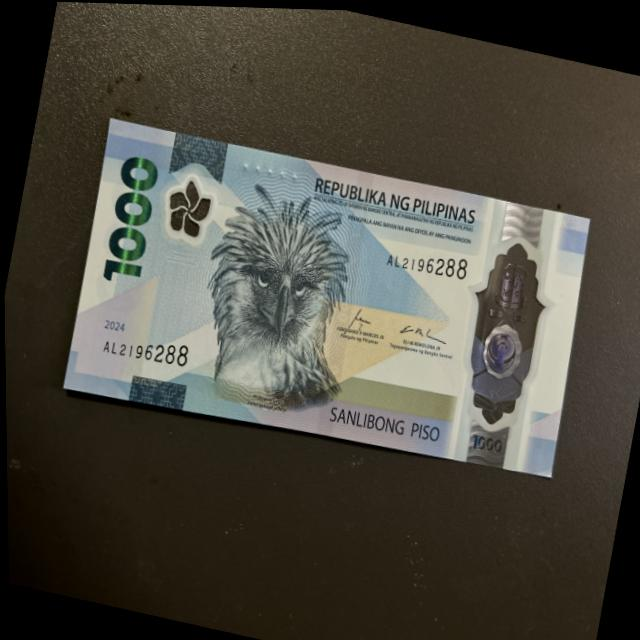clear_window: (438, 224, 567, 445)
eagle: (182, 182, 371, 421)
sampaguita: (161, 169, 215, 243)
value: (95, 140, 166, 287)
